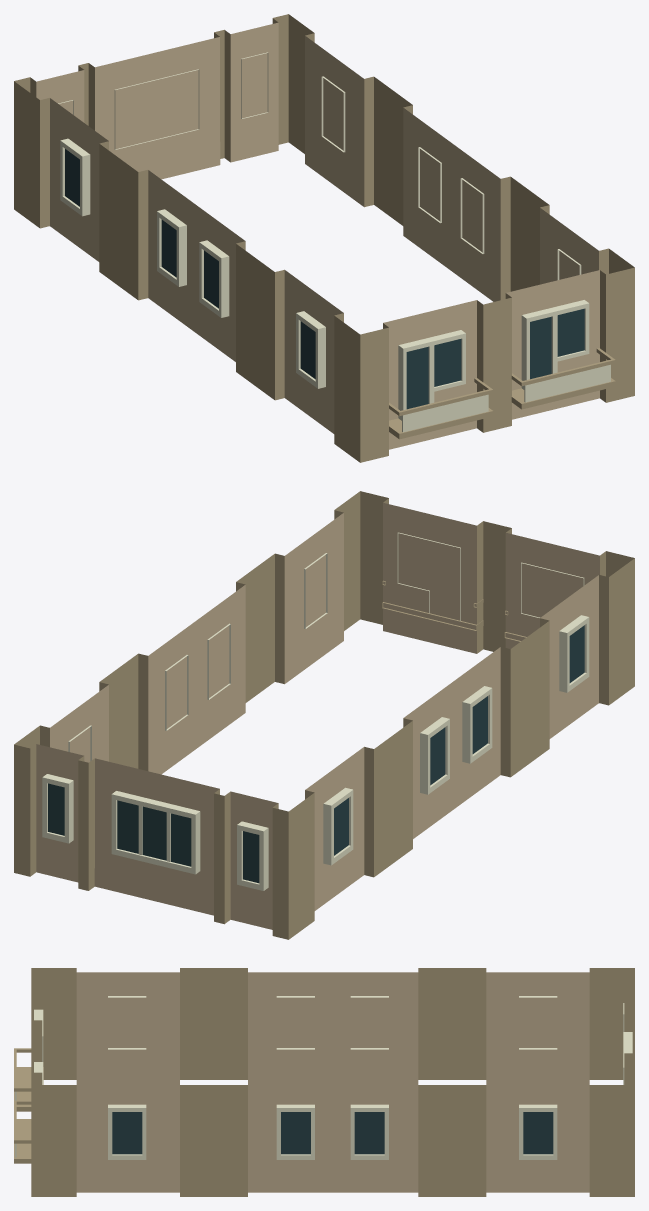
The model's file is apartment_building1_middle.fbx.
The picture shows the model from 3 angles, top to bottom: view 1: azimuth 30°, elevation 25°; view 2: azimuth 150°, elevation 25°; view 3: azimuth 270°, elevation 25°; orthographic projection. The views are drawn at different scales.
Parts seen in each view (by area): view 1: apartment_building1_middle; view 2: apartment_building1_middle; view 3: apartment_building1_middle.
Part boxes in pixels (<box>): apartment_building1_middle: <box>14,14,634,462</box>; apartment_building1_middle: <box>14,491,634,939</box>; apartment_building1_middle: <box>14,968,634,1196</box>.
Size of the model in its own units: 560 by 250 by 1258.
